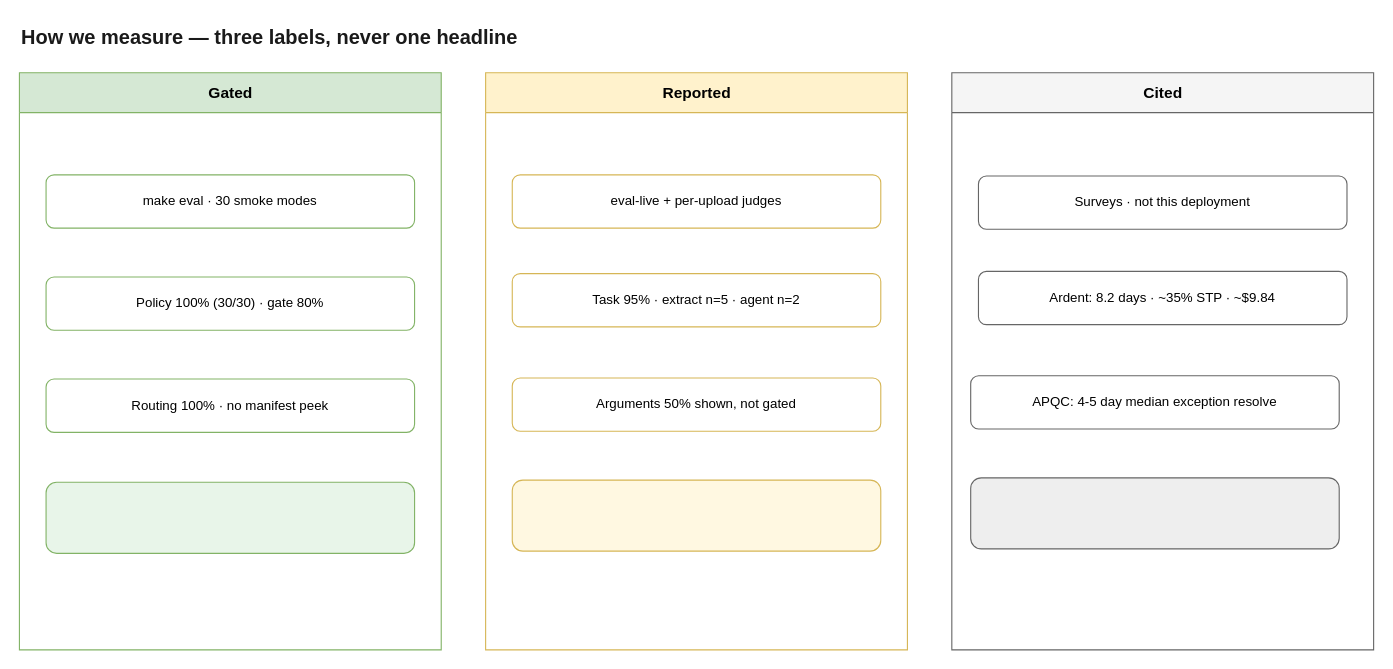
This 1393x669 diagram has some shape labels left out. The centre of each missing label's shape, as x and y in pixels:
Do not net $9.84 all-in against $0.0007 inference.: the point at 1154,513
May fail CI. If it cannot go red, it does not belong here.: the point at 230,517
RAG as minimum. Ops n=2: 10.2s p50, $0.0007.: the point at 696,515
